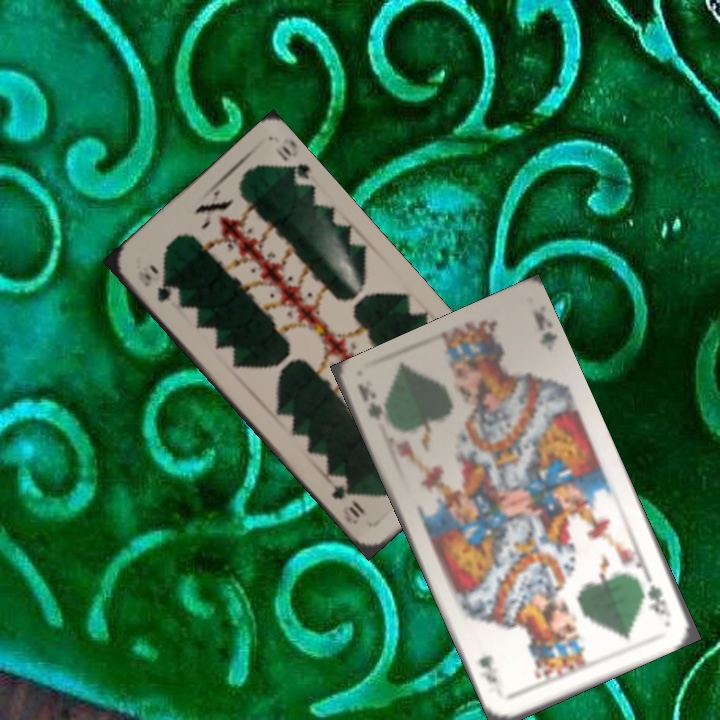G10: (140, 268, 174, 305)
GK: (641, 570, 674, 621), (354, 380, 385, 424)
